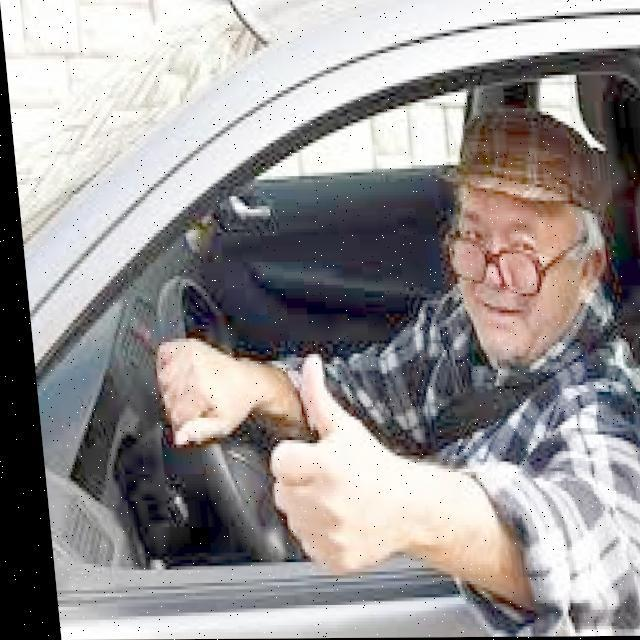seatbelt: (388, 320, 640, 518)
